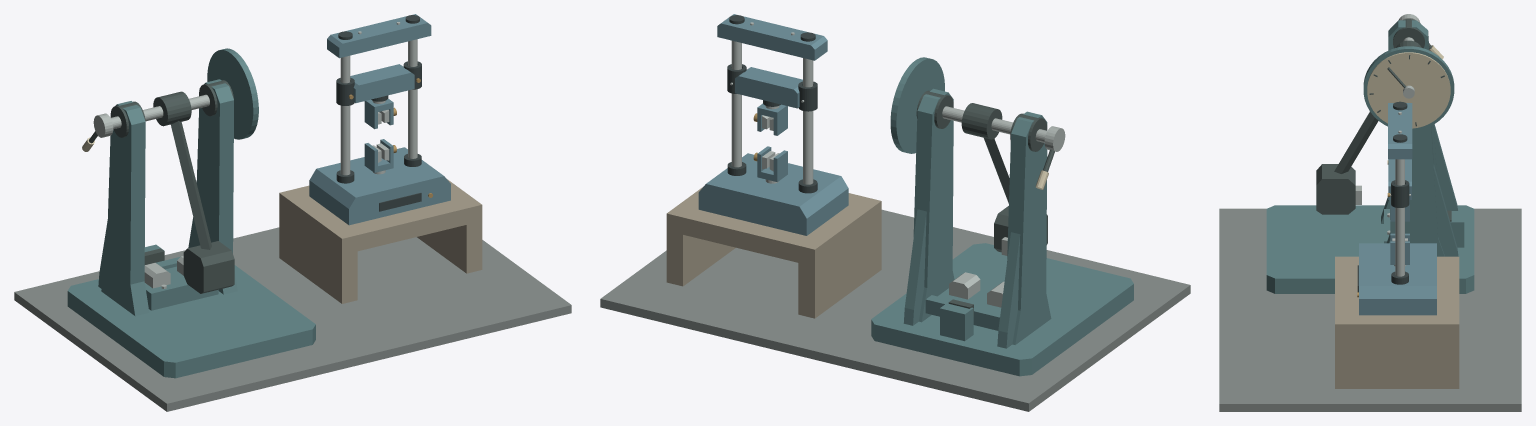
The picture shows the model from 3 angles, left to right: view 1: azimuth 30°, elevation 25°; view 2: azimuth 150°, elevation 25°; view 3: azimuth 270°, elevation 25°; orthographic projection. The views are drawn at different scales.
Parts seen in each view (by area): view 1: SCENE_ONLY__WholeCommonFloor, impact__WholeBroadChamferedGroundSole, SCENE_ONLY__WholeOpenBridgeBench, impact__WholeTaperedCastStandard0, frame__WholeLowClosedConsoleBase, impact__WholeTaperedCastStandard1, impact__WholeSideCircularDialBack, frame__WholeFixedUpperBridge, impact__WholeChamferedLowerHammerBody, frame__WholeMidHeightGripCrosshead, impact__WholeLongRectangularPendulumArm, impact__WholeLowCommonAnvilSeat (+7 smaller); view 2: SCENE_ONLY__WholeCommonFloor, SCENE_ONLY__WholeOpenBridgeBench, impact__WholeBroadChamferedGroundSole, frame__WholeLowClosedConsoleBase, impact__WholeTaperedCastStandard0, impact__WholeTaperedCastStandard1, impact__WholeSideCircularDialBack, frame__WholeFixedUpperBridge, frame__WholeMidHeightGripCrosshead, impact__WholeRearCastButtress1, impact__WholeRearCastButtress0, frame__WholeLeftRoundGuideColumn (+13 smaller); view 3: SCENE_ONLY__WholeCommonFloor, SCENE_ONLY__WholeOpenBridgeBench, impact__WholeBroadChamferedGroundSole, frame__WholeLowClosedConsoleBase, impact__WholeInsetOpaqueDialFace, impact__WholeTaperedCastStandard1, impact__WholeChamferedLowerHammerBody, frame__WholeFixedUpperBridge, impact__WholeSideCircularDialBack, impact__WholeRearCastButtress1, frame__WholeRightRoundGuideColumn, impact__WholeLongRectangularPendulumArm (+7 smaller).
Boxes of the visible parts, x1,y1,x2,y2 form: SCENE_ONLY__WholeCommonFloor: (14, 227, 571, 411); impact__WholeBroadChamferedGroundSole: (67, 265, 315, 378); SCENE_ONLY__WholeOpenBridgeBench: (279, 179, 482, 303); impact__WholeTaperedCastStandard0: (101, 101, 149, 316); frame__WholeLowClosedConsoleBase: (309, 147, 450, 225); impact__WholeTaperedCastStandard1: (194, 79, 237, 294); impact__WholeSideCircularDialBack: (207, 48, 258, 139); frame__WholeFixedUpperBridge: (327, 14, 431, 58); impact__WholeChamferedLowerHammerBody: (183, 241, 234, 293); frame__WholeMidHeightGripCrosshead: (350, 64, 414, 103); impact__WholeLongRectangularPendulumArm: (170, 121, 211, 249); impact__WholeLowCommonAnvilSeat: (145, 266, 218, 310); SCENE_ONLY__WholeCommonFloor: (600, 209, 1190, 411); SCENE_ONLY__WholeOpenBridgeBench: (666, 187, 881, 318); impact__WholeBroadChamferedGroundSole: (871, 243, 1133, 376); frame__WholeLowClosedConsoleBase: (698, 153, 848, 235); impact__WholeTaperedCastStandard0: (1007, 111, 1051, 344); impact__WholeTaperedCastStandard1: (913, 88, 954, 322); impact__WholeSideCircularDialBack: (890, 57, 944, 153); frame__WholeFixedUpperBridge: (717, 14, 827, 60); frame__WholeMidHeightGripCrosshead: (735, 67, 802, 108); impact__WholeRearCastButtress1: (903, 209, 926, 325); impact__WholeRearCastButtress0: (997, 232, 1020, 348); frame__WholeLeftRoundGuideColumn: (803, 58, 813, 184); SCENE_ONLY__WholeCommonFloor: (1219, 208, 1521, 411); SCENE_ONLY__WholeOpenBridgeBench: (1335, 256, 1459, 388); impact__WholeBroadChamferedGroundSole: (1266, 205, 1474, 293); frame__WholeLowClosedConsoleBase: (1359, 243, 1436, 315); impact__WholeInsetOpaqueDialFace: (1367, 52, 1450, 128); impact__WholeTaperedCastStandard1: (1386, 126, 1444, 256); impact__WholeChamferedLowerHammerBody: (1316, 164, 1355, 214); frame__WholeFixedUpperBridge: (1388, 103, 1412, 159); impact__WholeSideCircularDialBack: (1363, 46, 1454, 131); impact__WholeRearCastButtress1: (1433, 164, 1458, 256); frame__WholeRightRoundGuideColumn: (1395, 159, 1404, 276); impact__WholeLongRectangularPendulumArm: (1334, 112, 1378, 173).
Bounding box in the file's own units: 3.25 × 1.92 × 2.12.
